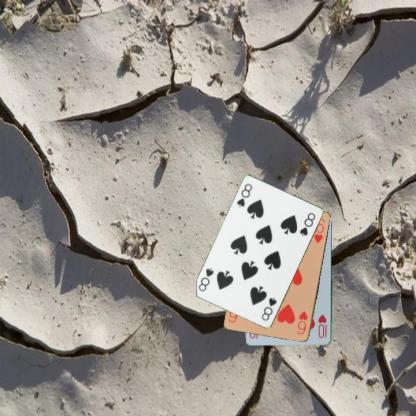10h: (316, 312, 328, 339)
6h: (294, 309, 309, 336)
8s: (234, 181, 254, 208), (259, 296, 278, 323)
